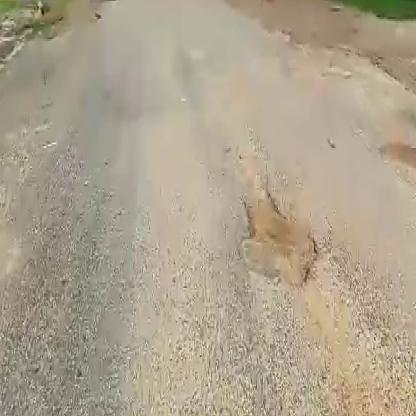pothole: (238, 194, 321, 290), (378, 136, 416, 190)
